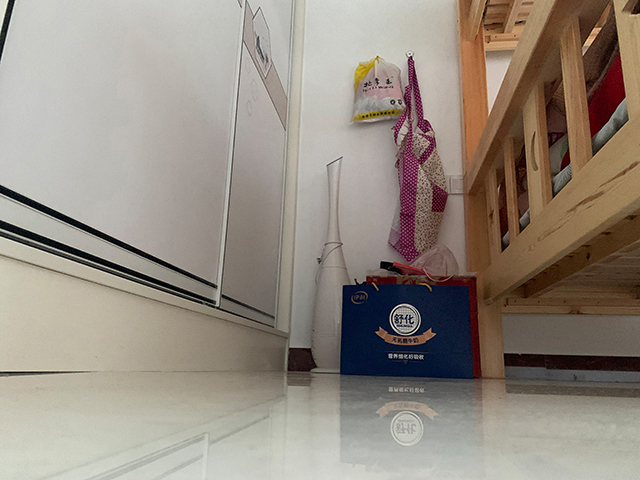bed: (455, 1, 640, 378)
cabinet: (1, 1, 301, 374)
